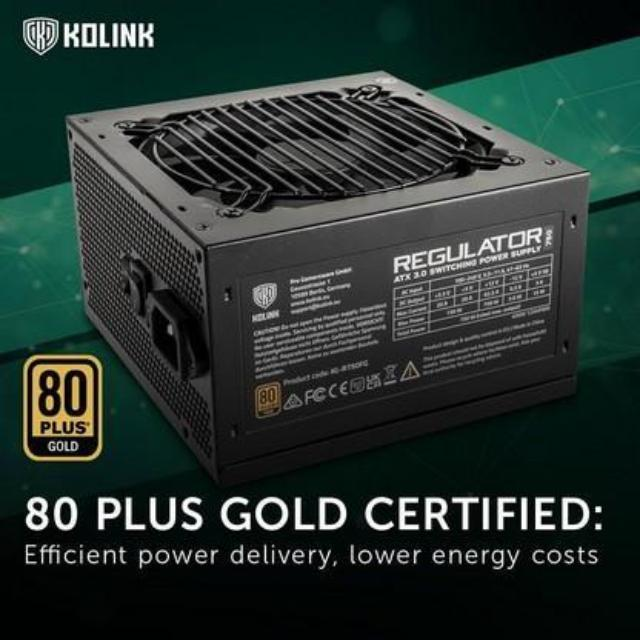PSU: (61, 60, 599, 489)
